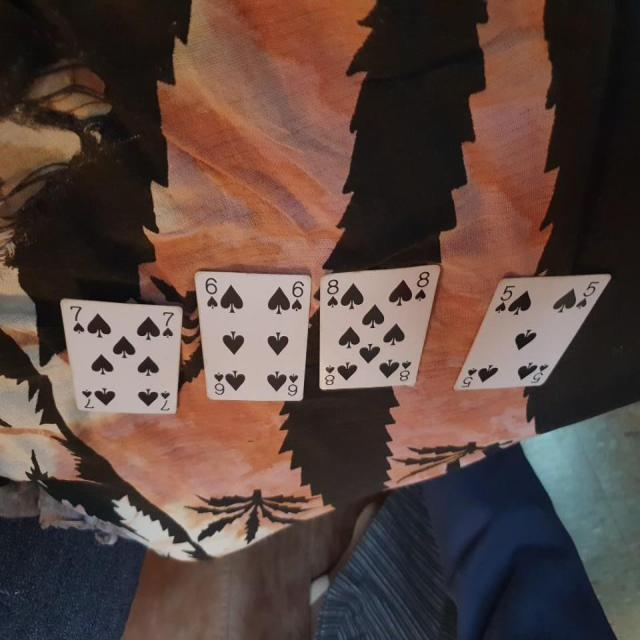5 Spades: (453, 268, 615, 418)
6 Spades: (186, 264, 312, 415)
7 Spades: (54, 289, 188, 434)
8 Spades: (315, 260, 445, 400)
